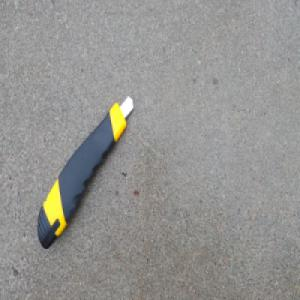Cutter: (37, 96, 134, 252)
